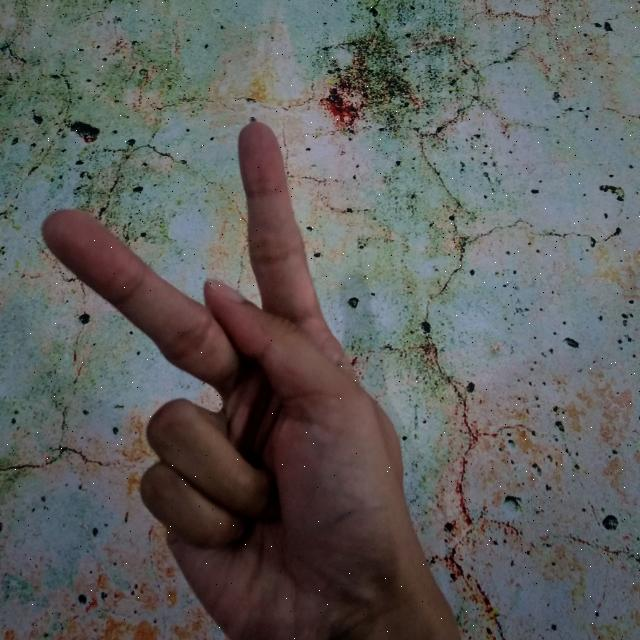K: (37, 116, 466, 640)
